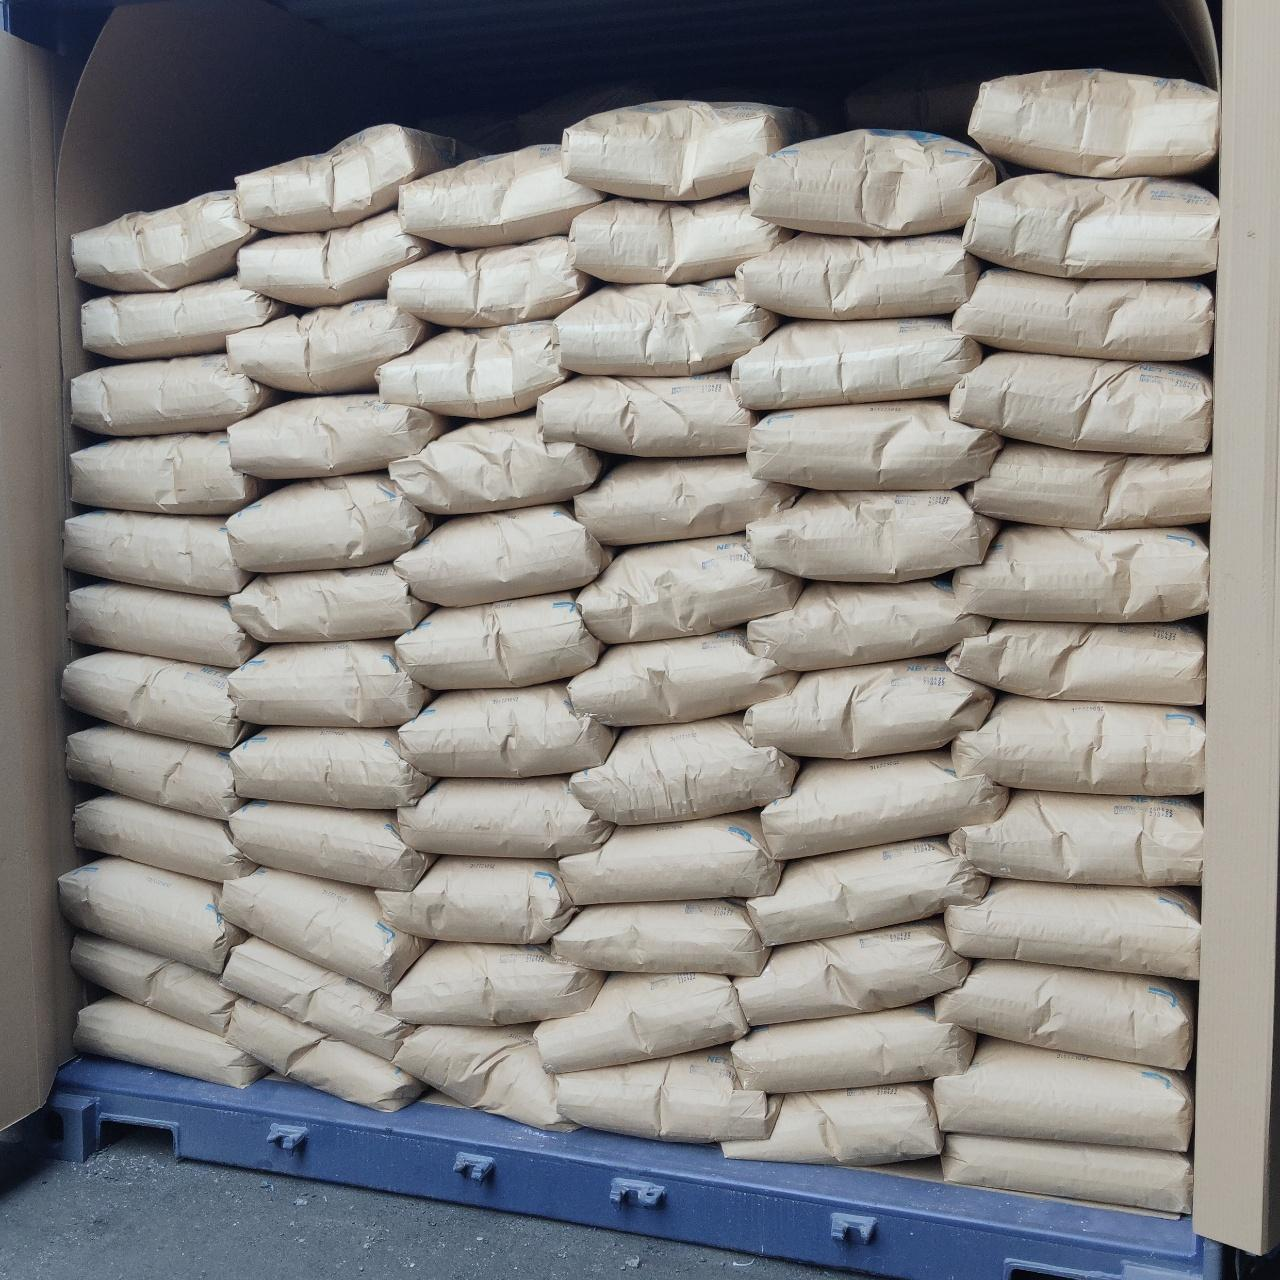sack: (934, 1038, 1192, 1151), (935, 960, 1193, 1070), (968, 69, 1218, 178), (762, 750, 1008, 859), (962, 174, 1218, 278), (219, 867, 430, 993), (746, 836, 987, 945), (950, 352, 1210, 453), (750, 129, 995, 236), (562, 100, 817, 201), (952, 694, 1204, 795), (744, 657, 993, 759), (571, 715, 798, 825), (733, 919, 968, 1025), (945, 880, 1198, 978), (953, 525, 1208, 621), (578, 535, 802, 644), (220, 937, 415, 1061), (952, 268, 1213, 360), (236, 124, 458, 232), (951, 791, 1202, 886), (747, 398, 1001, 490), (732, 318, 981, 410), (748, 577, 990, 671), (747, 491, 996, 582), (223, 997, 422, 1110), (568, 629, 796, 726), (395, 505, 612, 606), (554, 279, 779, 376), (390, 413, 606, 514), (60, 857, 245, 974), (731, 1005, 975, 1093), (947, 621, 1204, 704), (398, 144, 605, 247), (535, 973, 748, 1073), (558, 811, 783, 905), (967, 442, 1210, 529), (738, 233, 980, 320), (554, 1049, 776, 1142), (399, 683, 617, 777), (226, 473, 432, 572), (395, 591, 603, 689), (940, 1134, 1191, 1214), (575, 455, 798, 545), (569, 195, 794, 284), (227, 299, 436, 393), (237, 209, 436, 307), (72, 188, 259, 290), (228, 394, 452, 479), (377, 320, 569, 418), (393, 1026, 576, 1127), (387, 236, 590, 327), (537, 373, 755, 456), (391, 942, 604, 1026), (230, 801, 431, 890), (73, 996, 267, 1087), (722, 1085, 942, 1165), (62, 652, 247, 747), (397, 776, 612, 857), (71, 354, 282, 436), (228, 640, 431, 725), (82, 276, 289, 359), (377, 856, 575, 942), (72, 935, 240, 1034), (229, 727, 433, 808), (66, 725, 241, 819), (71, 432, 267, 514), (69, 583, 258, 668), (553, 900, 767, 975), (230, 564, 430, 642), (64, 511, 249, 595), (73, 796, 255, 881)
